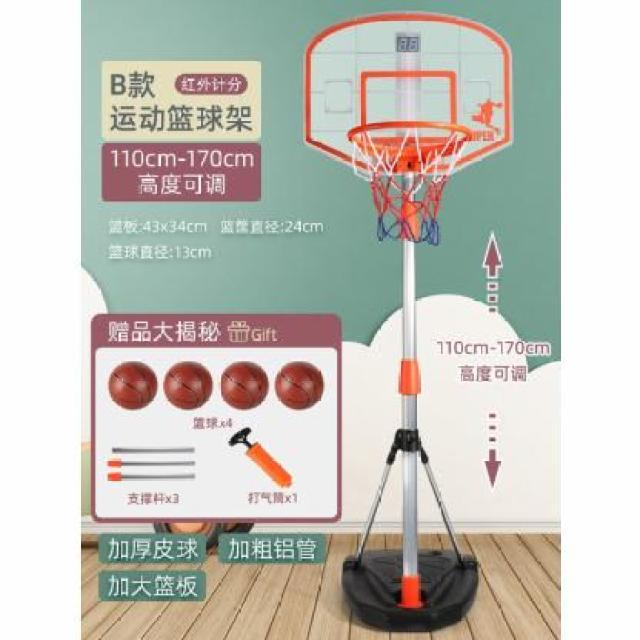basketball: (226, 358, 316, 410), (108, 361, 156, 412), (220, 361, 268, 412), (276, 361, 324, 412), (164, 361, 212, 412)
rim: (347, 121, 469, 243)
